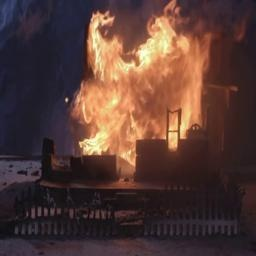fire: (60, 2, 211, 166)
